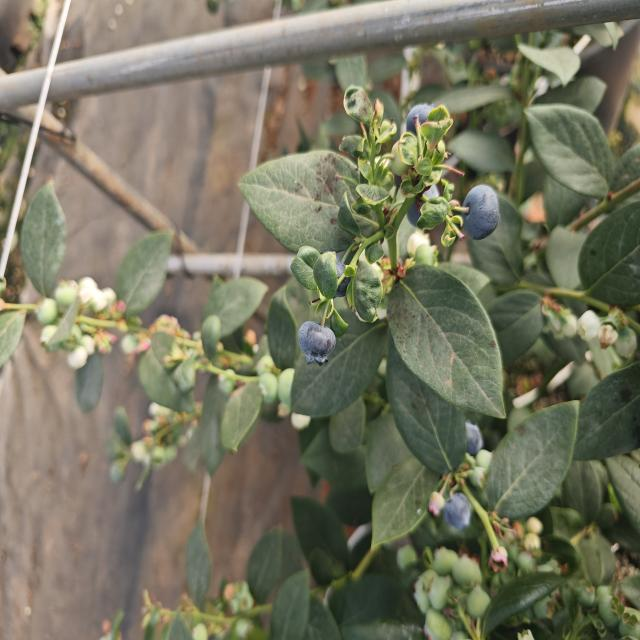ripe: (458, 182, 502, 244), (295, 318, 338, 369), (451, 406, 490, 460), (439, 490, 474, 534), (402, 100, 438, 141)
